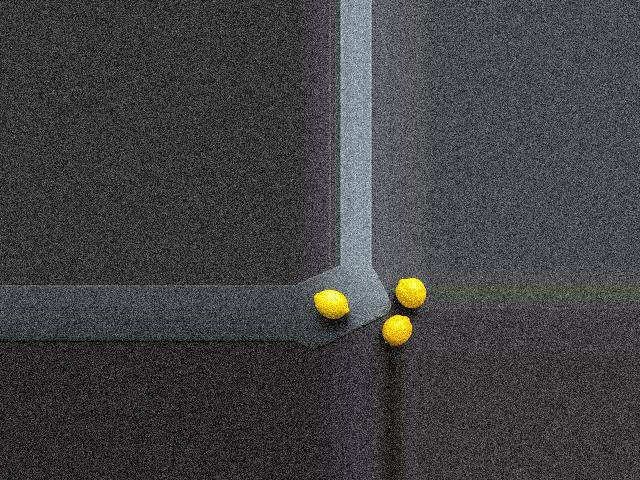lemon: (392, 276, 428, 309)
